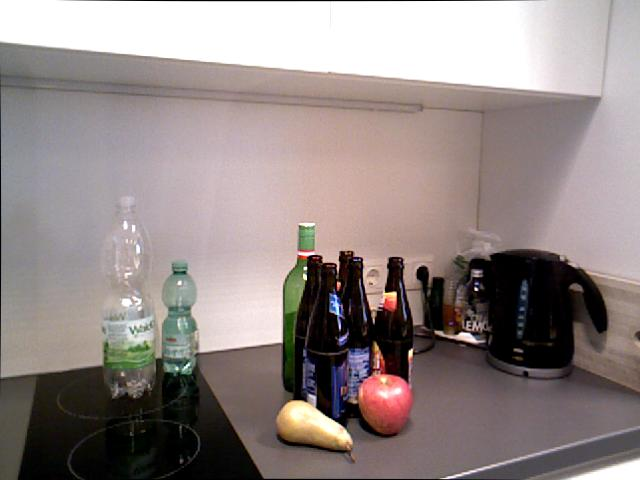bench: (99, 194, 156, 399), (302, 262, 349, 427), (374, 256, 413, 416), (281, 221, 316, 393), (160, 260, 199, 398), (341, 256, 373, 417), (293, 254, 323, 401), (458, 264, 496, 354), (337, 250, 353, 408)
bicycle: (357, 373, 413, 436)
